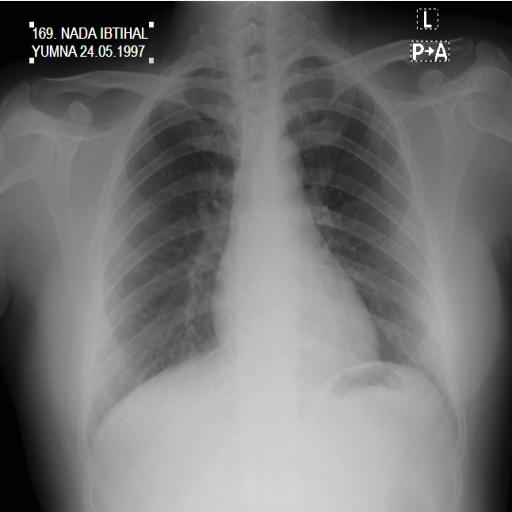normal: (78, 35, 476, 468)
